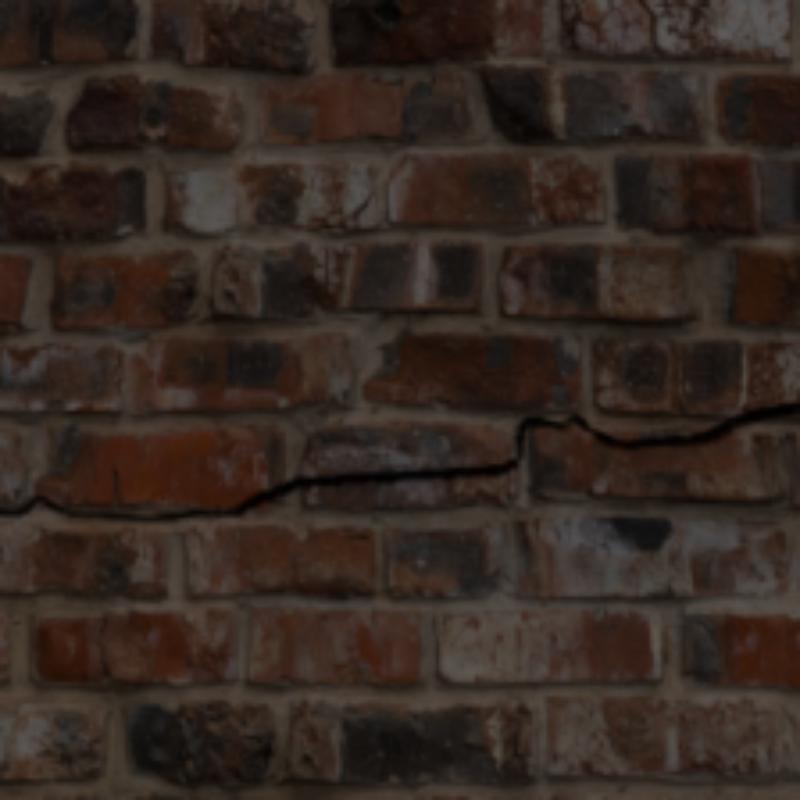pothole: (0, 404, 796, 521), (100, 646, 104, 657), (104, 657, 107, 671), (100, 629, 104, 639), (104, 618, 107, 625)
